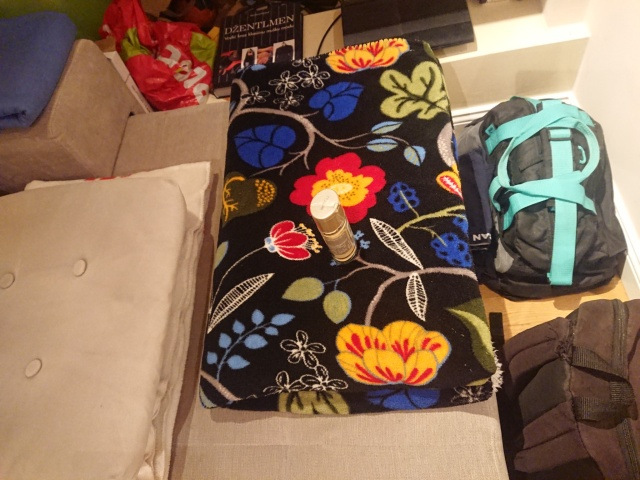Kotanyi Garlic Granules 70g: (308, 187, 359, 265)
